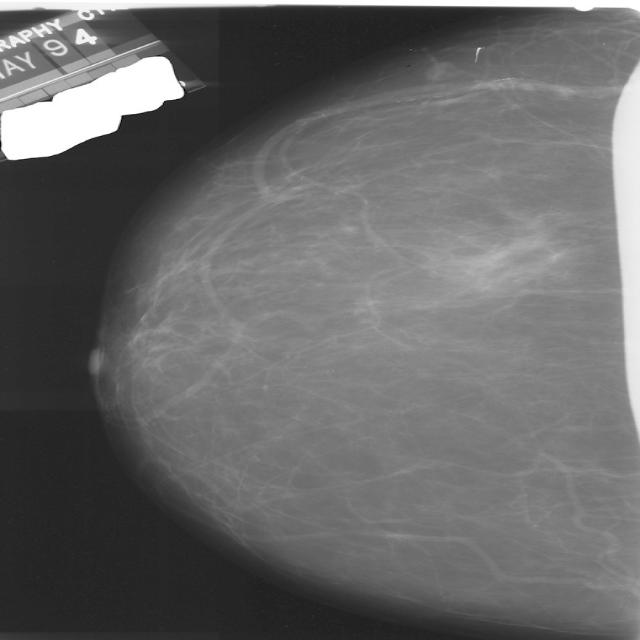tumour: (448, 238, 566, 296)
